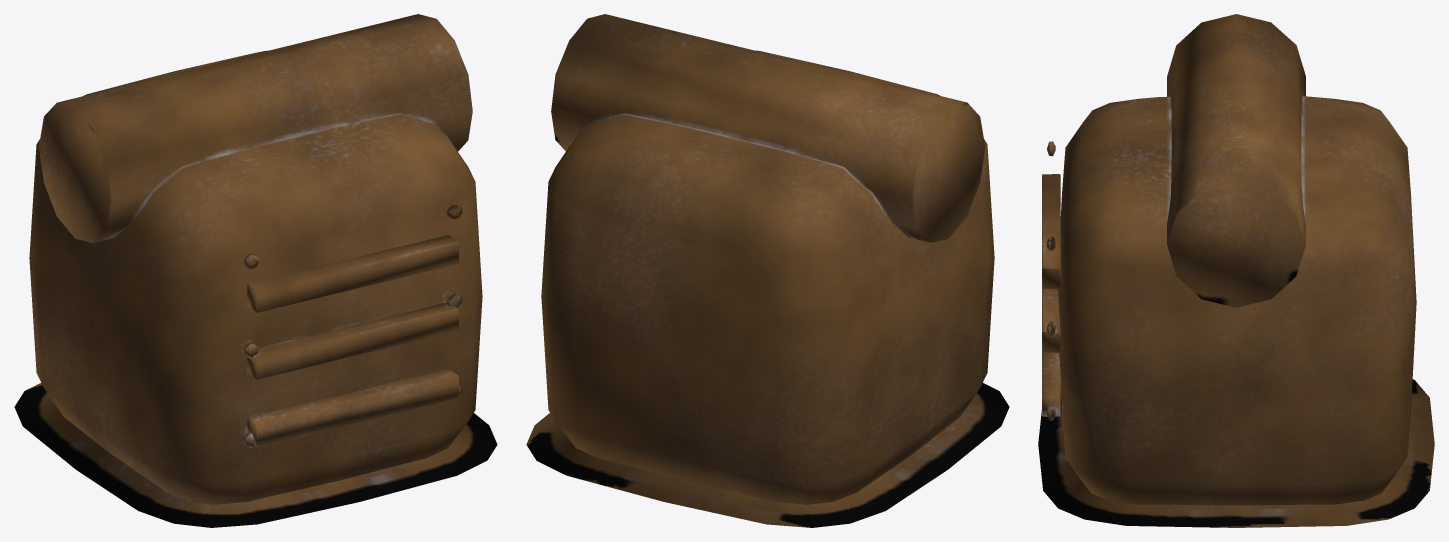
File: MatonImp_BrazoAbajo_Bronce.fbx
3 views of the same model, side by side, from view 1: azimuth 30°, elevation 25°; view 2: azimuth 150°, elevation 25°; view 3: azimuth 270°, elevation 25° (orthographic). The views are drawn at different scales.
Parts seen in each view (by area): view 1: MatonImp_BrazoAbajo_Bronce; view 2: MatonImp_BrazoAbajo_Bronce; view 3: MatonImp_BrazoAbajo_Bronce.
Boxes of the visible parts, bbox=[...] form: MatonImp_BrazoAbajo_Bronce: bbox=[14, 14, 497, 527]; MatonImp_BrazoAbajo_Bronce: bbox=[526, 14, 1009, 527]; MatonImp_BrazoAbajo_Bronce: bbox=[1038, 14, 1434, 527].
Bounding box in the file's own units: 1.43 × 1.47 × 1.42.
